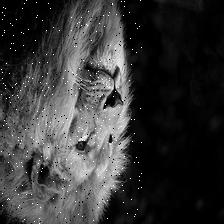Lion: (0, 0, 141, 224)
